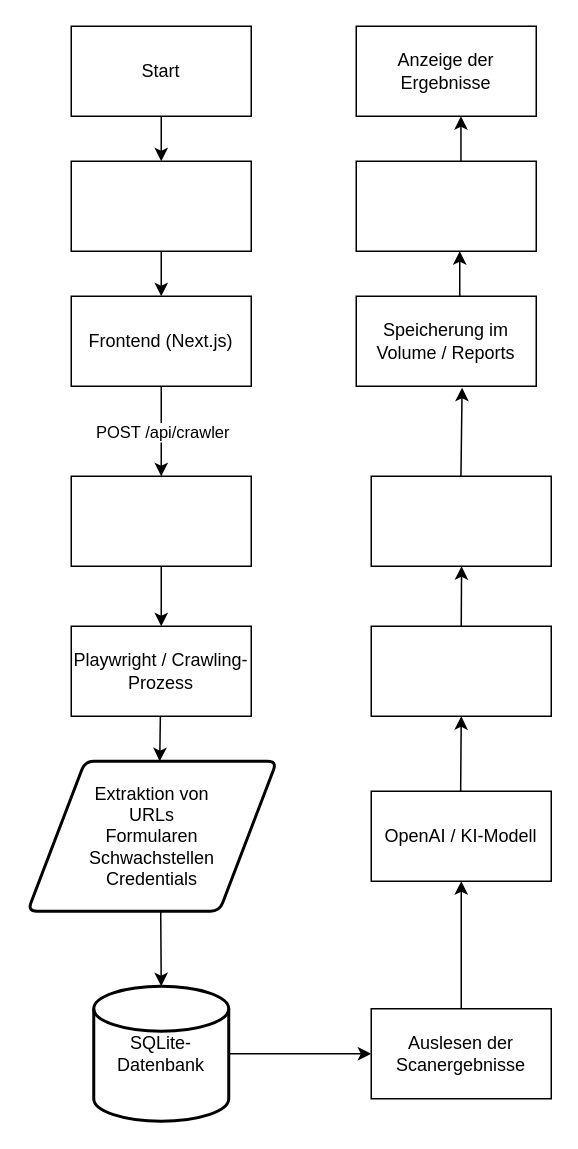
Some shapes in this 578 by 1149 pixel diagram are drawn without their labels. The centre of each missing label's shape, as x and y in pixels:
Antwort an Frontend: the point at 445,205
Backend FastAPI / Python-Crawler: the point at 160,520
Benutzer: the point at 160,205
Berichtstext: the point at 460,670
PDF-Erstellung: the point at 460,520
